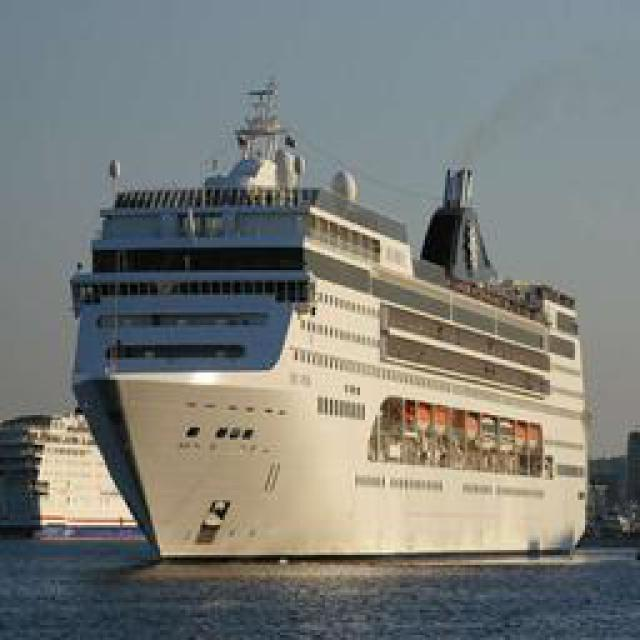Ship: (68, 113, 613, 568)
